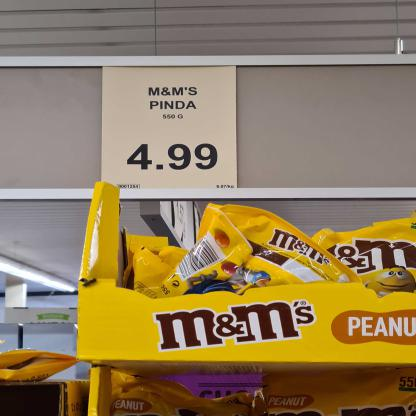prtg: (100, 66, 240, 191)
